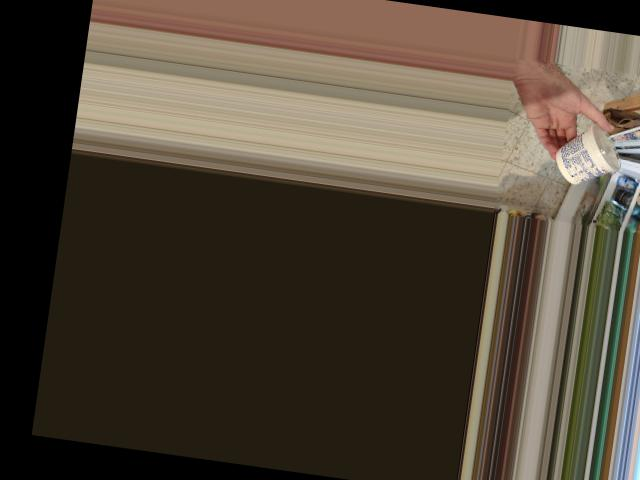cotage: (561, 119, 629, 188)
